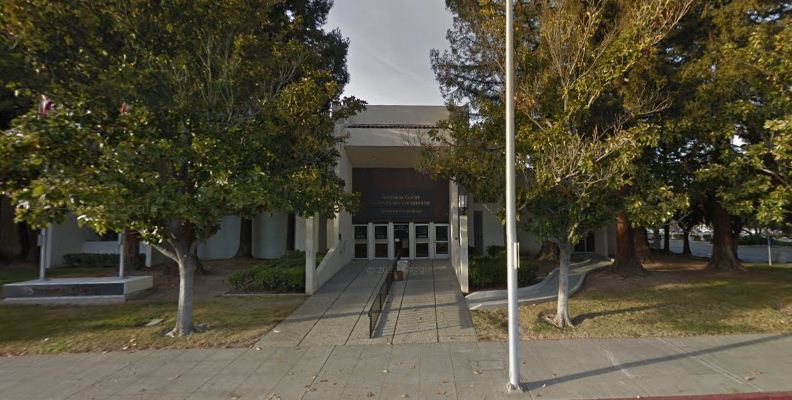tree: (1, 1, 368, 338), (398, 1, 693, 329), (653, 1, 792, 274)
